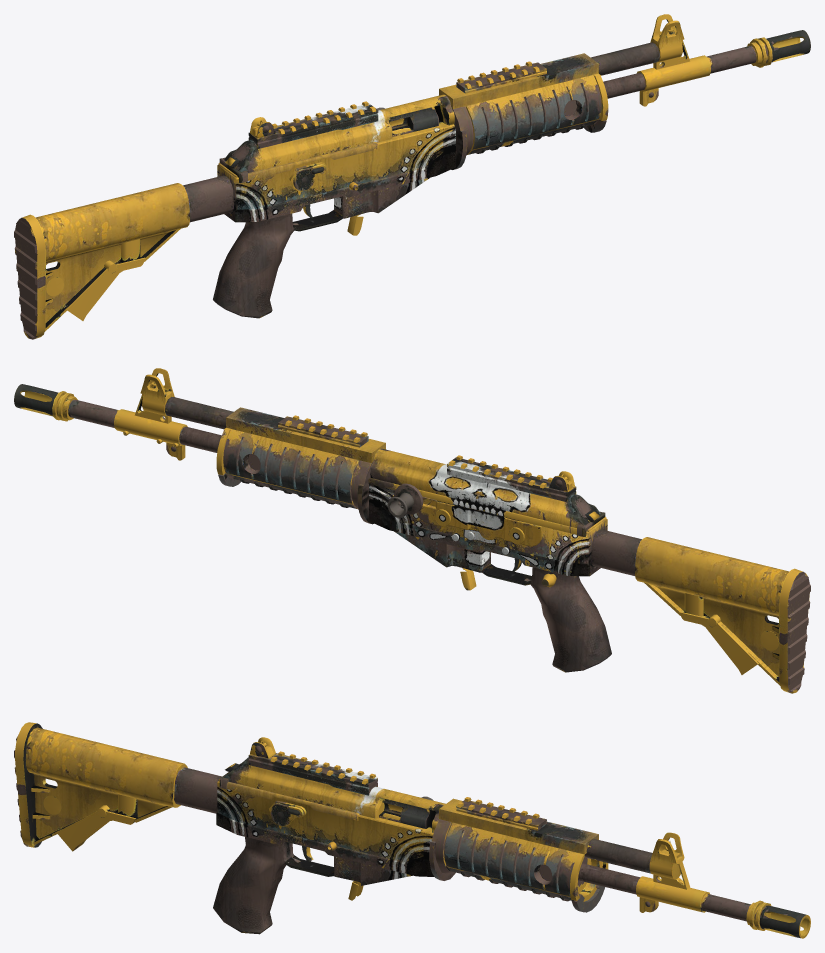
File: w_assaultrifle_abrasion.glb
3 renders of one model, top to bottom at view 1: azimuth 30°, elevation 25°; view 2: azimuth 150°, elevation 25°; view 3: azimuth 330°, elevation 25°, orthographic.
Visible parts, largest first — view 1: Gun_Root; view 2: Gun_Root; view 3: Gun_Root.
Boxes of the visible parts, x1,y1,x2,y2 form: Gun_Root: (14,14,810,339); Gun_Root: (14,368,810,693); Gun_Root: (14,722,810,938).
Size of the model in its own units: 0.8573 by 0.2015 by 0.0789.
Materials: 1 (1 with a texture image).
